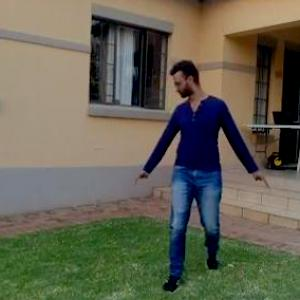land: (125, 57, 265, 297)
